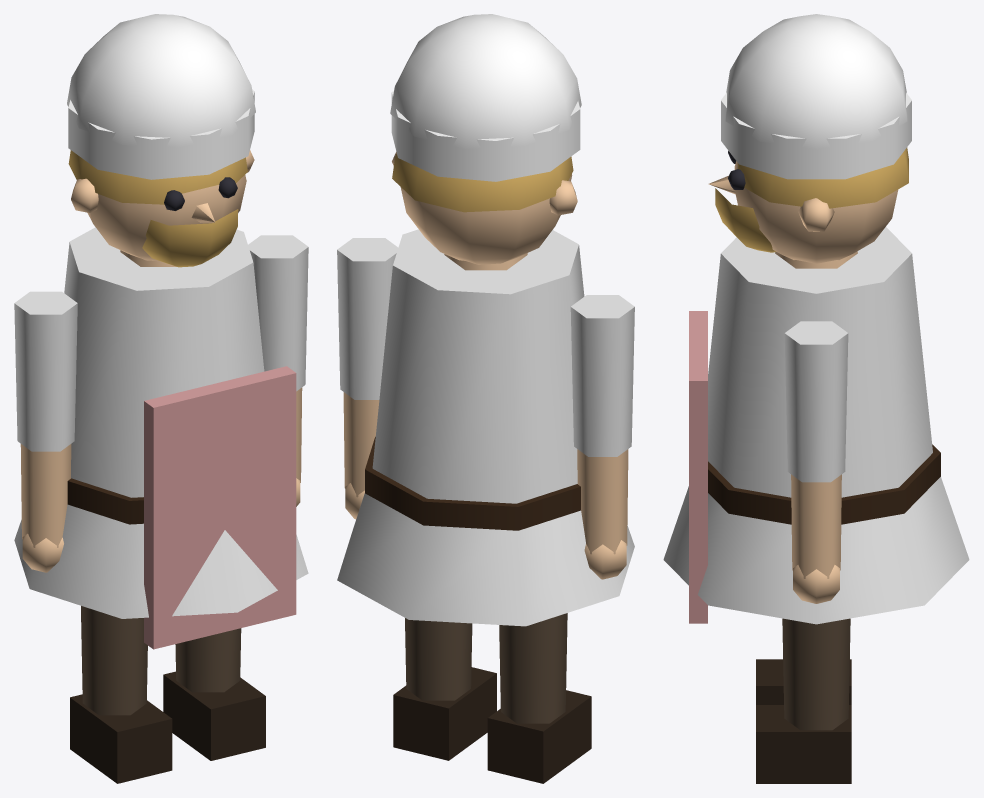
Rendered from w_metzger.glb.
The picture shows the model from 3 angles, left to right: view 1: azimuth 30°, elevation 25°; view 2: azimuth 150°, elevation 25°; view 3: azimuth 270°, elevation 25°; orthographic projection.
Parts seen in each view (by area): view 1: worker, arm_l, leg_l, leg_r, arm_r; view 2: worker, arm_l, leg_l, leg_r, arm_r; view 3: worker, arm_r, leg_r, leg_l.
Part boxes in pixels (<box>): worker: <box>14,14,308,649</box>; arm_l: <box>14,291,77,572</box>; leg_l: <box>70,606,172,783</box>; leg_r: <box>163,628,265,760</box>; arm_r: <box>248,235,308,506</box>; worker: <box>337,14,634,626</box>; arm_l: <box>570,295,634,579</box>; leg_l: <box>487,613,591,783</box>; leg_r: <box>393,618,496,760</box>; arm_r: <box>337,238,398,519</box>; worker: <box>663,14,969,624</box>; arm_r: <box>784,321,848,603</box>; leg_r: <box>756,618,851,783</box>; leg_l: <box>756,659,851,704</box>.
Size of the model in its own units: 0.4053 by 1 by 0.384.
